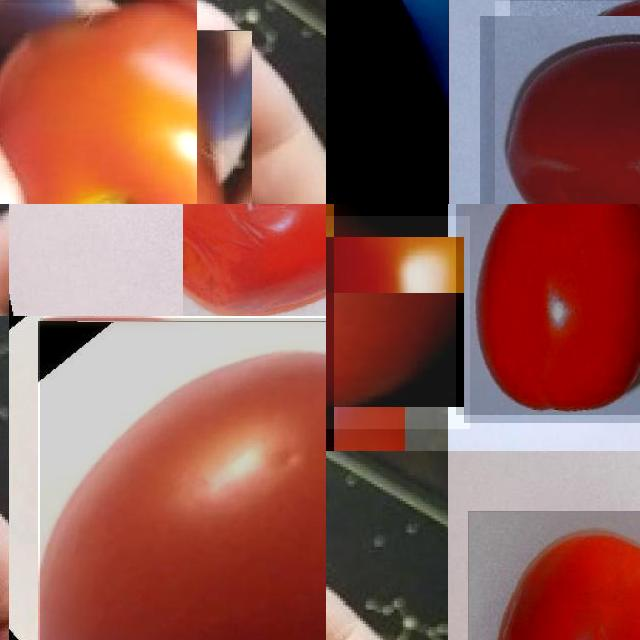0: (40, 318, 326, 640)
1: (183, 204, 326, 316)
Fresh Tomato: (0, 3, 224, 204), (456, 204, 640, 415), (326, 215, 469, 429), (494, 1, 640, 204), (468, 511, 640, 640)
Rotten Tomato: (326, 0, 449, 204)
